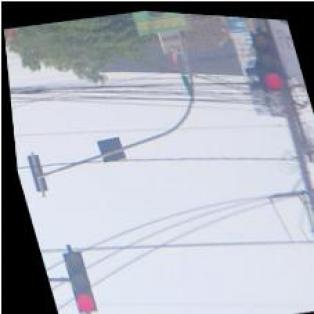Semaforo Rojo: (246, 25, 285, 93), (53, 246, 91, 314)
